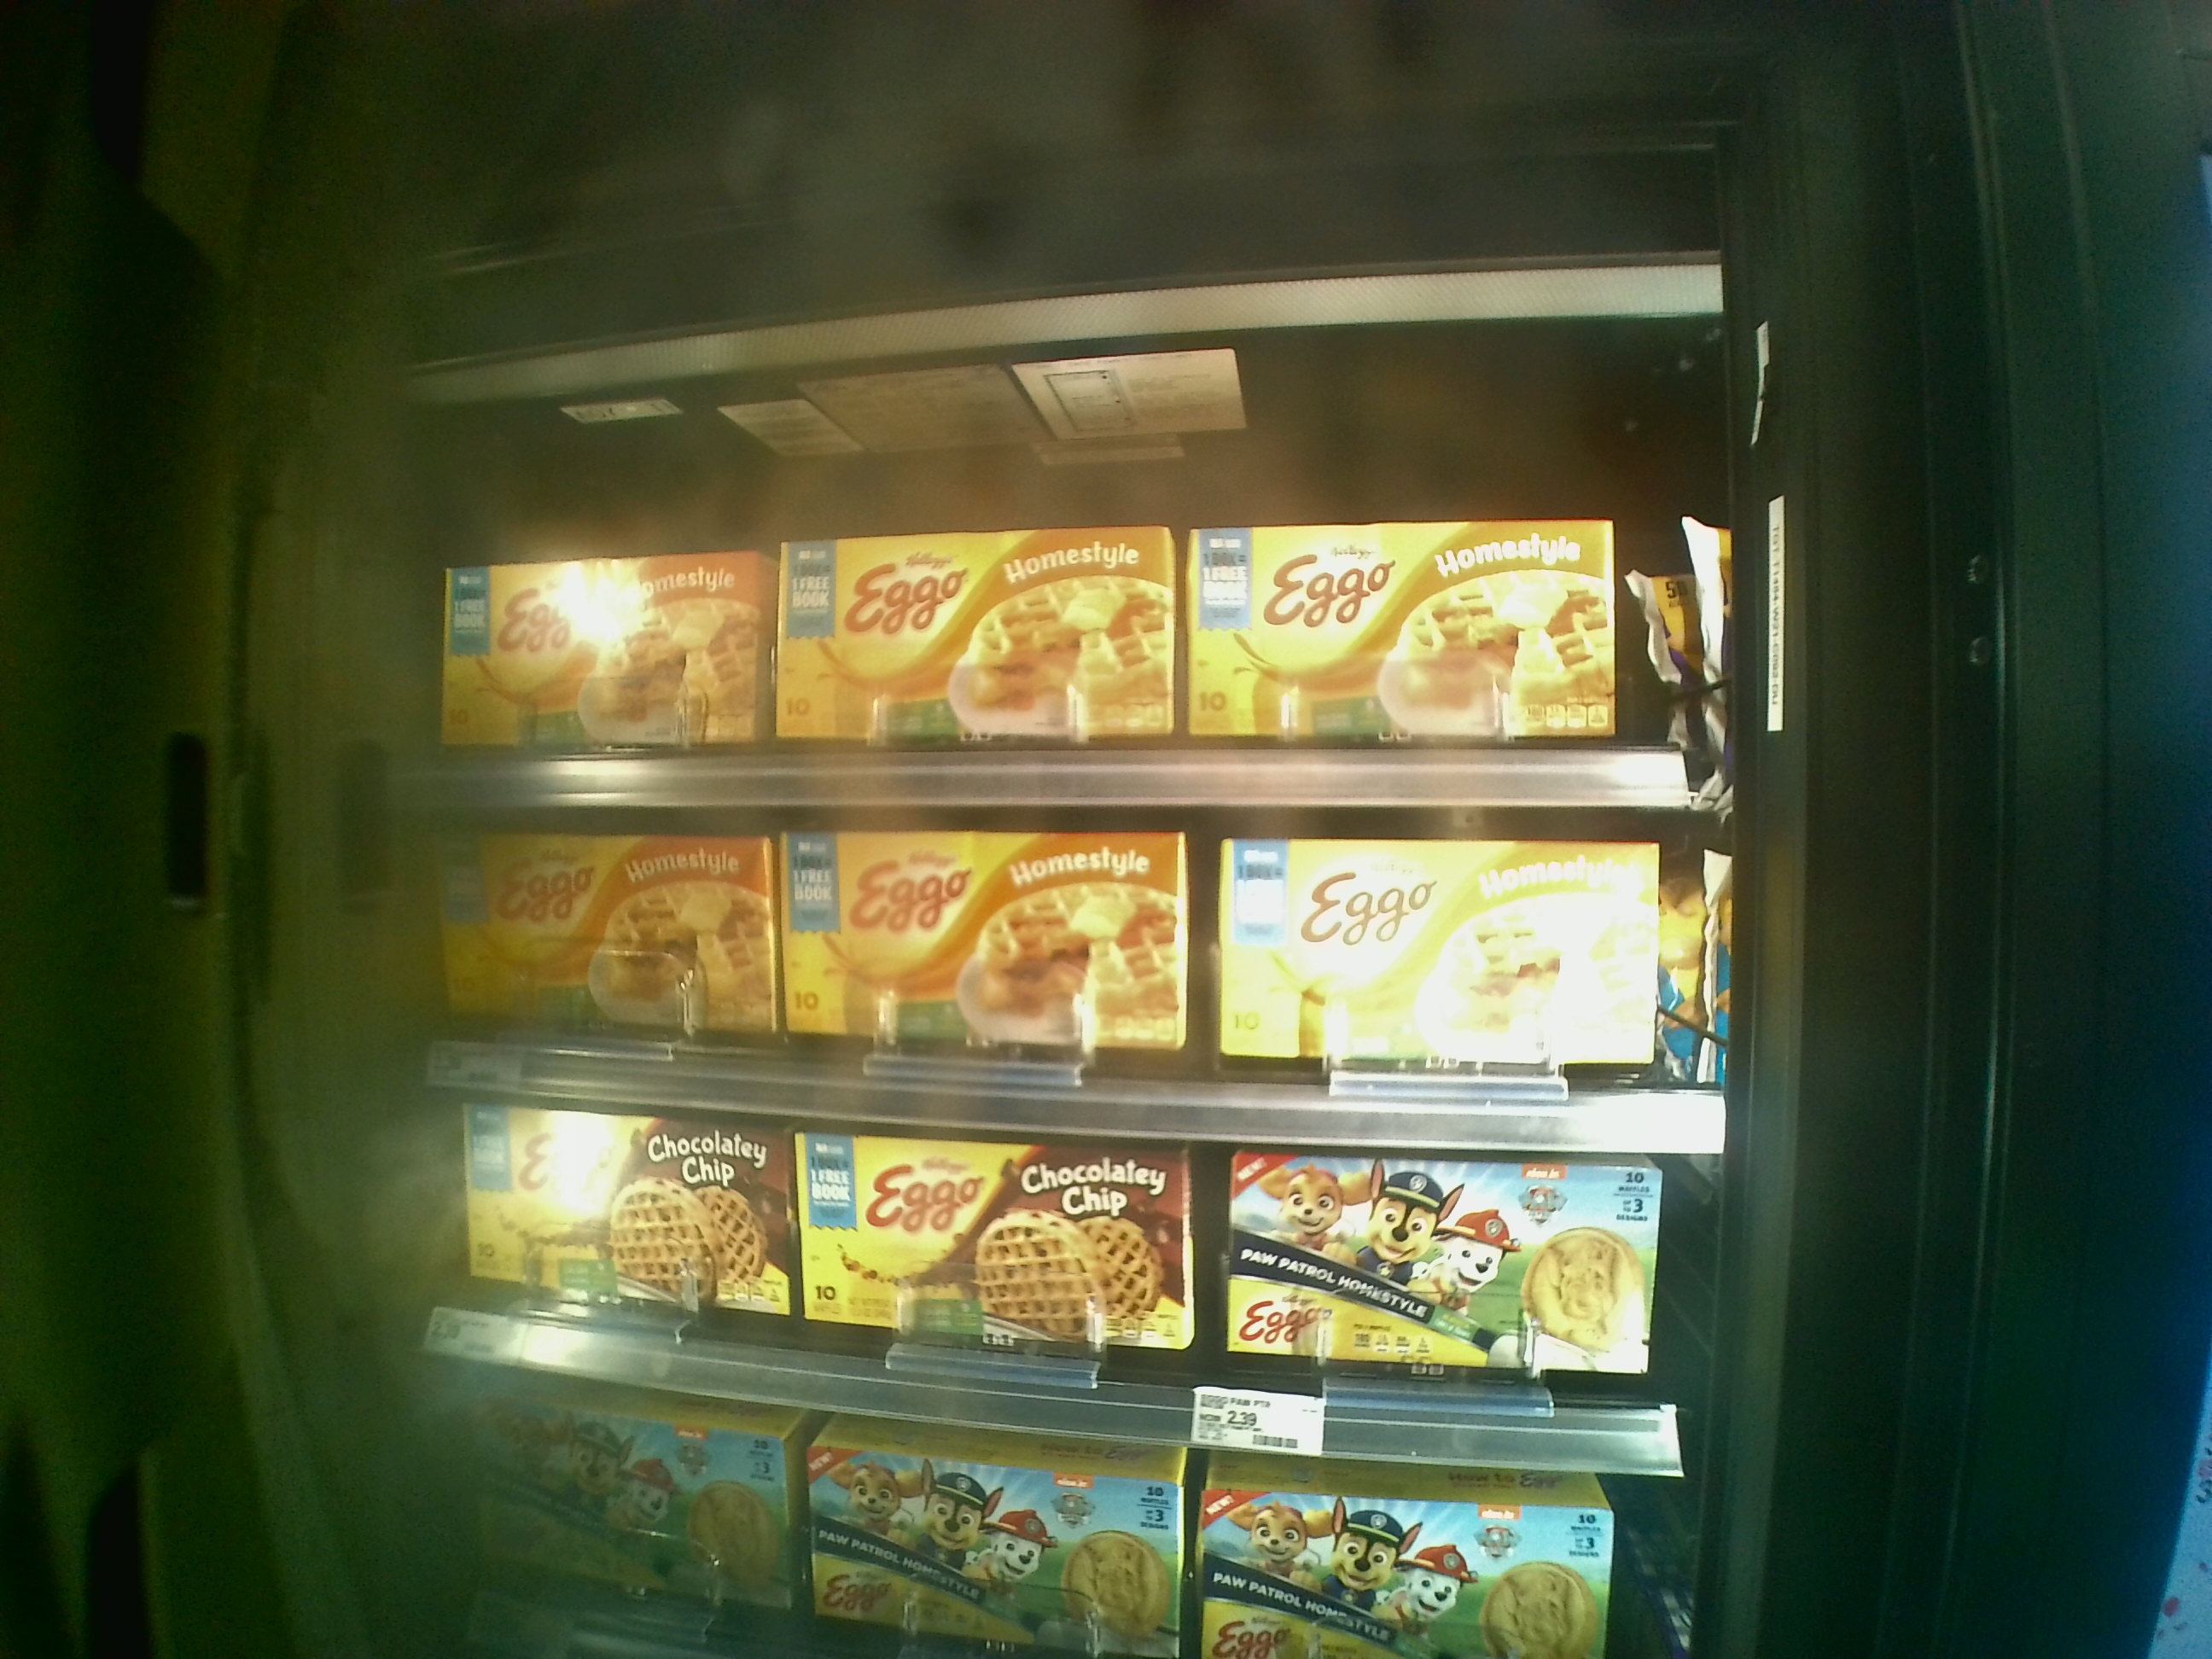shelf: (425, 784, 1731, 1159)
